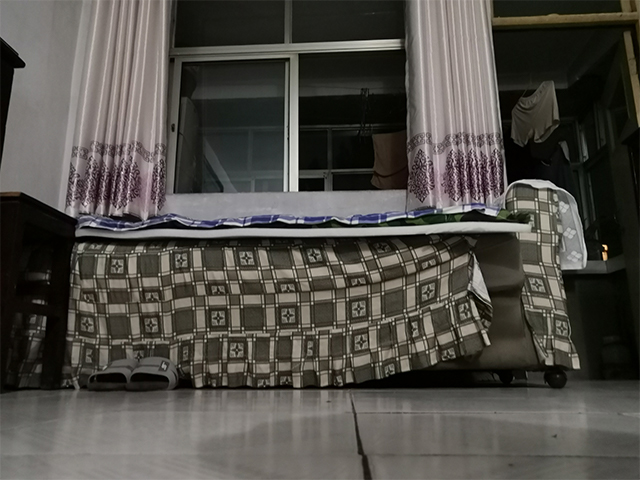curtain: (399, 2, 507, 208), (63, 1, 164, 218)
slippers: (85, 356, 183, 393)
sofa: (1, 177, 591, 390)
stool: (1, 186, 79, 391)
